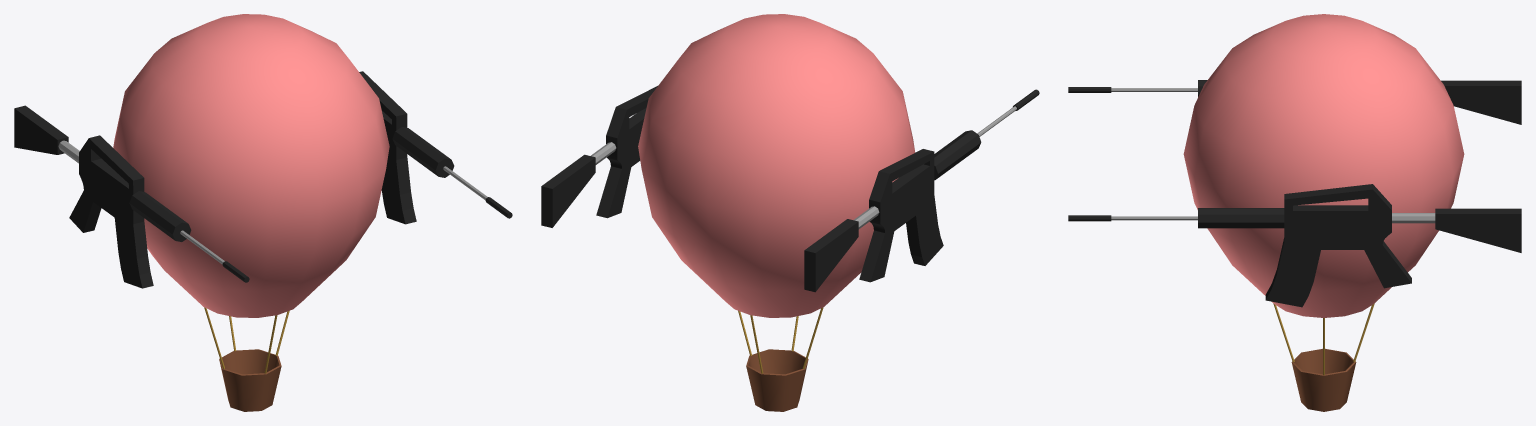
File: Lv3_FB_Rifler.FBX
3 renders of one model, left to right at view 1: azimuth 30°, elevation 25°; view 2: azimuth 150°, elevation 25°; view 3: azimuth 270°, elevation 25°, orthographic.
Visible parts, largest first — view 1: Sphere001, Line007, Cylinder001, Line014, Line009, Line006, Line013, Line010, Line017, Line003; view 2: Sphere001, Line007, Cylinder001, Line014, Line009, Line016, Line010, Line006, Line017, Line003; view 3: Sphere001, Line014, Cylinder001, Line016, Line009, Line013, Line017, Line015, Line003, Line012.
Part boxes in pixels (x1=…): Sphere001: x1=113, y1=14, x2=389, y2=317; Line007: x1=69, y1=152, x2=153, y2=288; Cylinder001: x1=219, y1=349, x2=281, y2=411; Line014: x1=381, y1=111, x2=416, y2=224; Line009: x1=14, y1=105, x2=68, y2=154; Line006: x1=129, y1=191, x2=191, y2=241; Line013: x1=392, y1=127, x2=454, y2=177; Line010: x1=79, y1=135, x2=144, y2=191; Line017: x1=359, y1=71, x2=407, y2=127; Line003: x1=204, y1=307, x2=289, y2=373; Sphere001: x1=638, y1=14, x2=915, y2=317; Line007: x1=859, y1=163, x2=943, y2=282; Cylinder001: x1=746, y1=349, x2=808, y2=411; Line014: x1=596, y1=108, x2=646, y2=218; Line009: x1=804, y1=219, x2=858, y2=292; Line016: x1=541, y1=154, x2=595, y2=227; Line010: x1=869, y1=149, x2=934, y2=202; Line006: x1=934, y1=130, x2=981, y2=180; Line017: x1=606, y1=86, x2=657, y2=137; Line003: x1=738, y1=307, x2=823, y2=373; Sphere001: x1=1183, y1=14, x2=1464, y2=317; Line014: x1=1265, y1=205, x2=1411, y2=307; Cylinder001: x1=1291, y1=348, x2=1356, y2=411; Line016: x1=1435, y1=208, x2=1521, y2=252; Line009: x1=1441, y1=80, x2=1521, y2=124; Line013: x1=1198, y1=208, x2=1284, y2=228; Line017: x1=1284, y1=184, x2=1391, y2=210; Line015: x1=1392, y1=213, x2=1435, y2=223; Line003: x1=1273, y1=303, x2=1374, y2=375; Line012: x1=1111, y1=216, x2=1197, y2=220.
Size of the model in its own units: 150 by 192 by 210.
